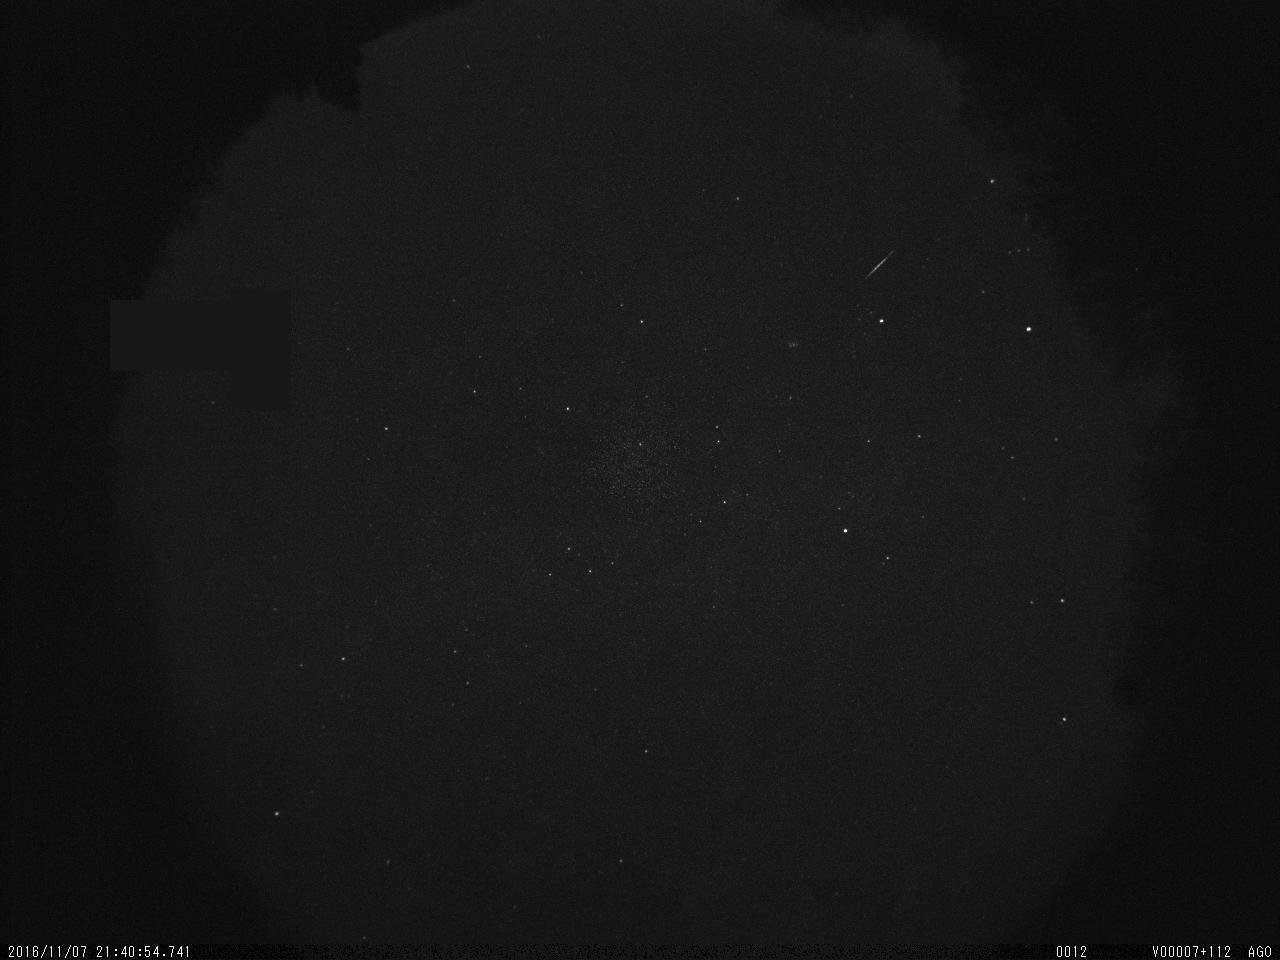Meteor: (863, 247, 894, 280)
